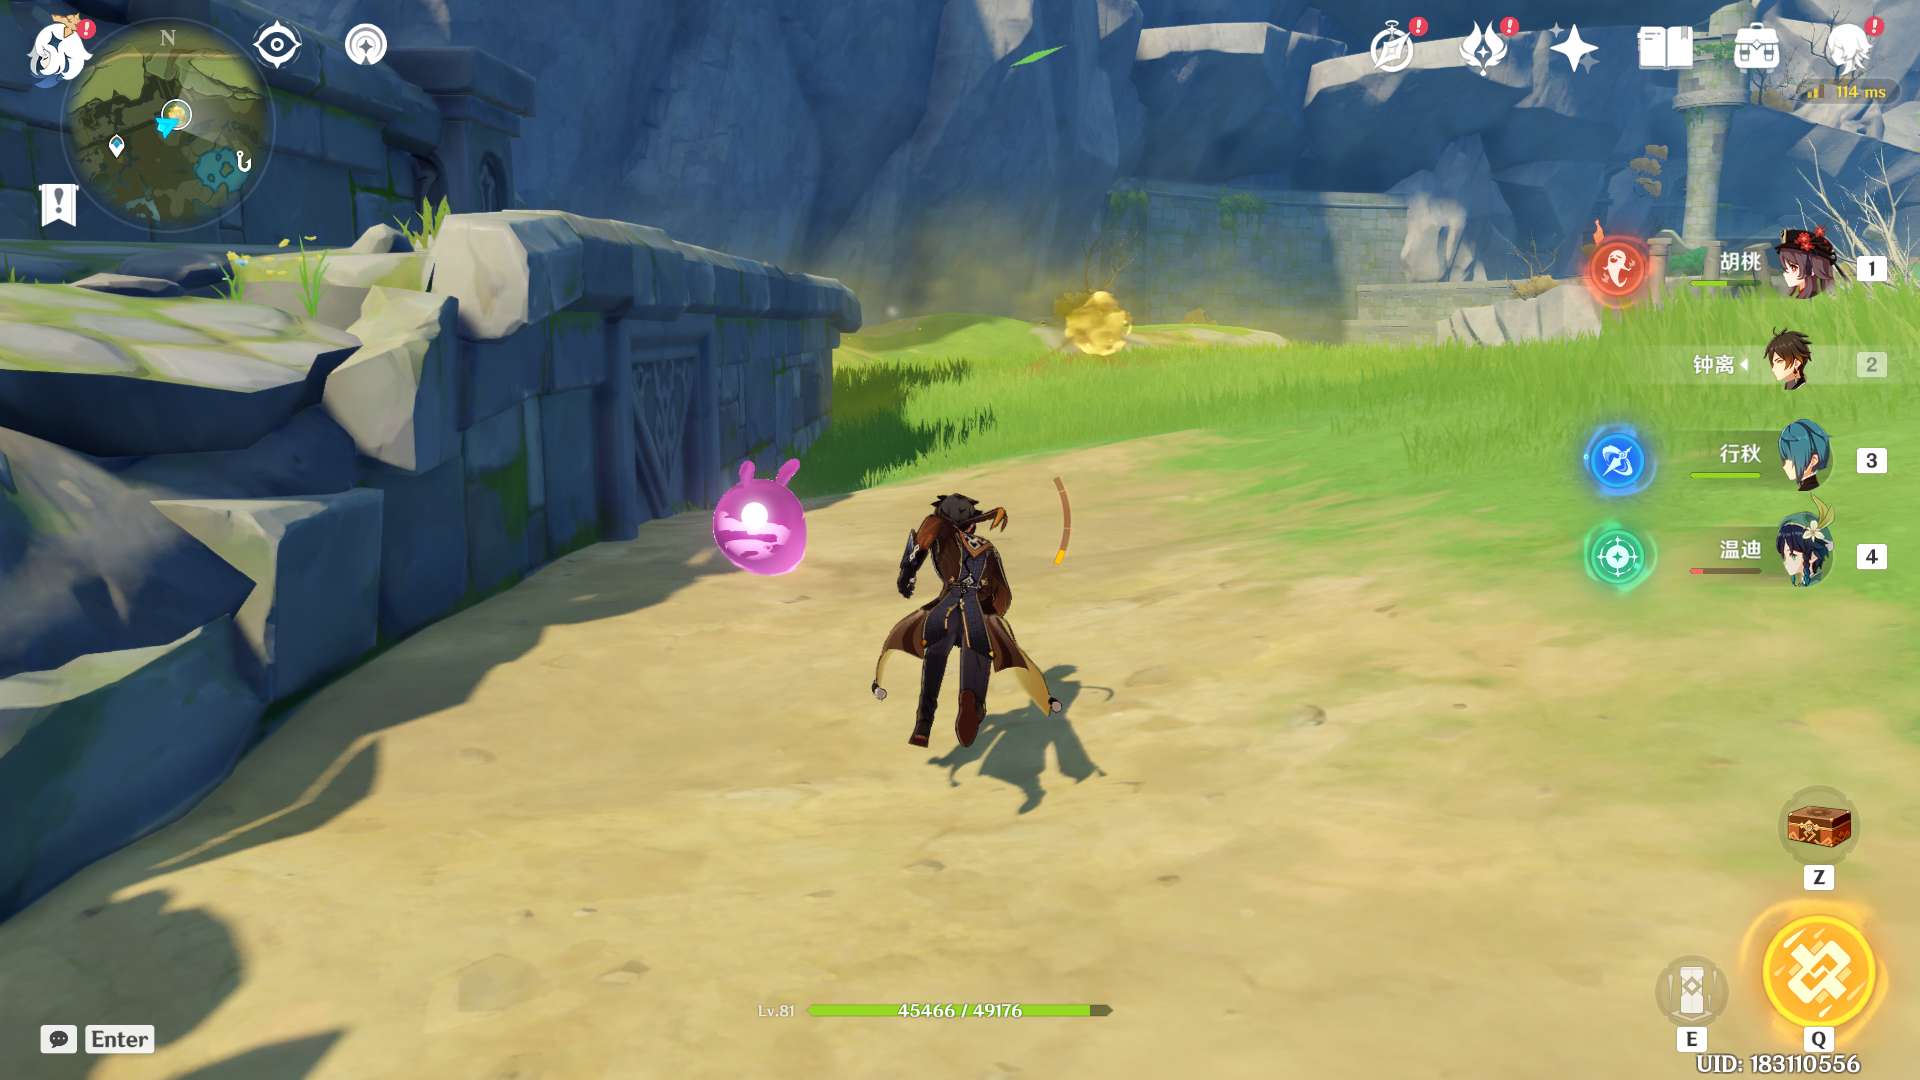character: (822, 456, 1091, 856)
